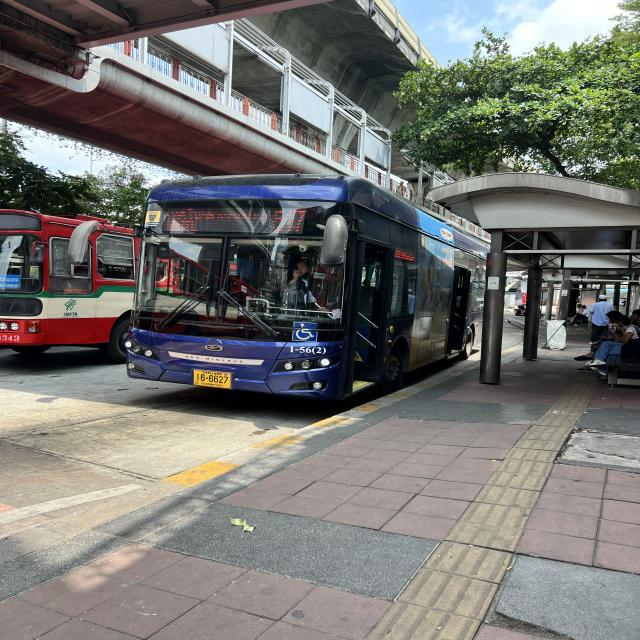BMTA-bus: (0, 207, 139, 368)
Bus-Line-Number: (268, 206, 309, 235)
Destination-Sign-Normal: (161, 207, 267, 236)
TSB-Bus: (119, 169, 487, 416)
